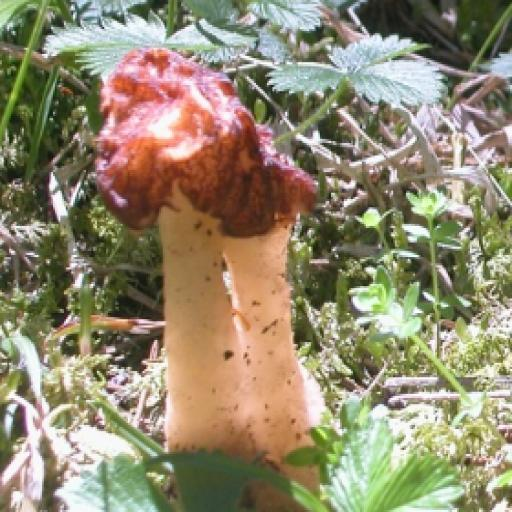mushroom: (101, 36, 316, 462)
